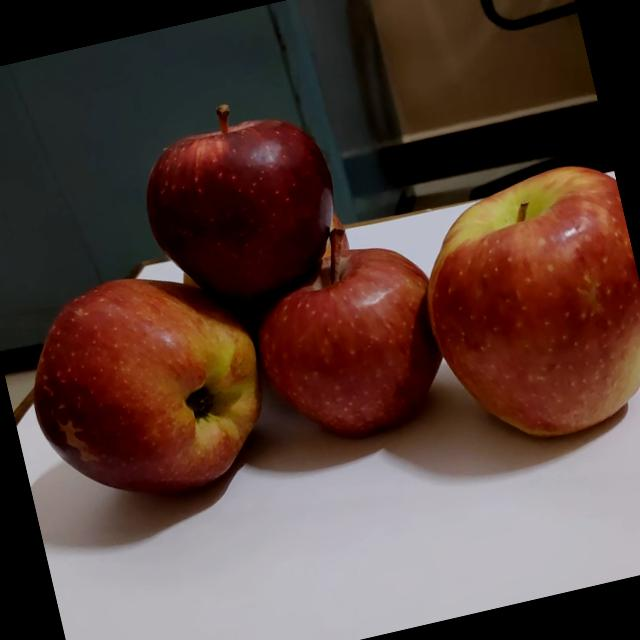apple: (6, 244, 293, 523), (398, 151, 640, 472), (119, 75, 360, 323), (230, 206, 460, 460), (171, 261, 209, 299)
